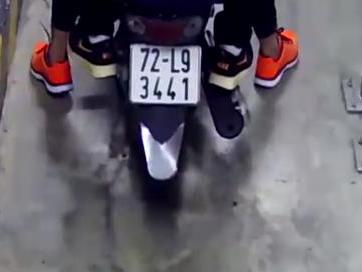num_plate: (129, 42, 202, 105)
